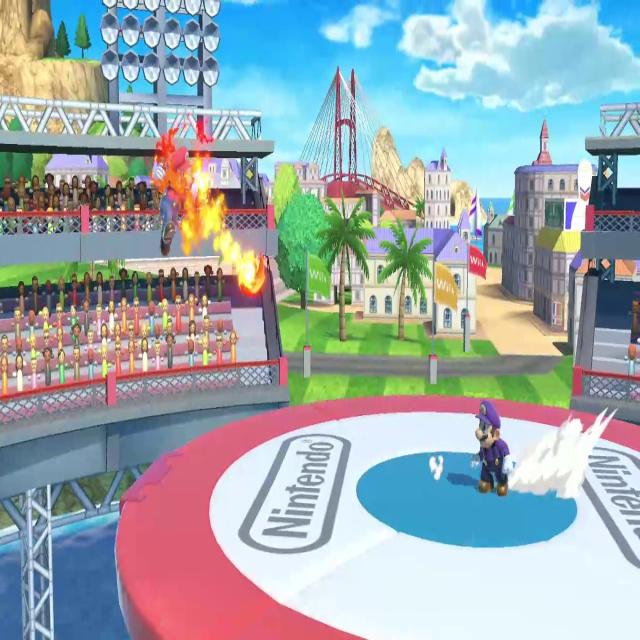Mario-NB: (146, 141, 201, 258)
Mario-jump: (467, 393, 516, 499)
